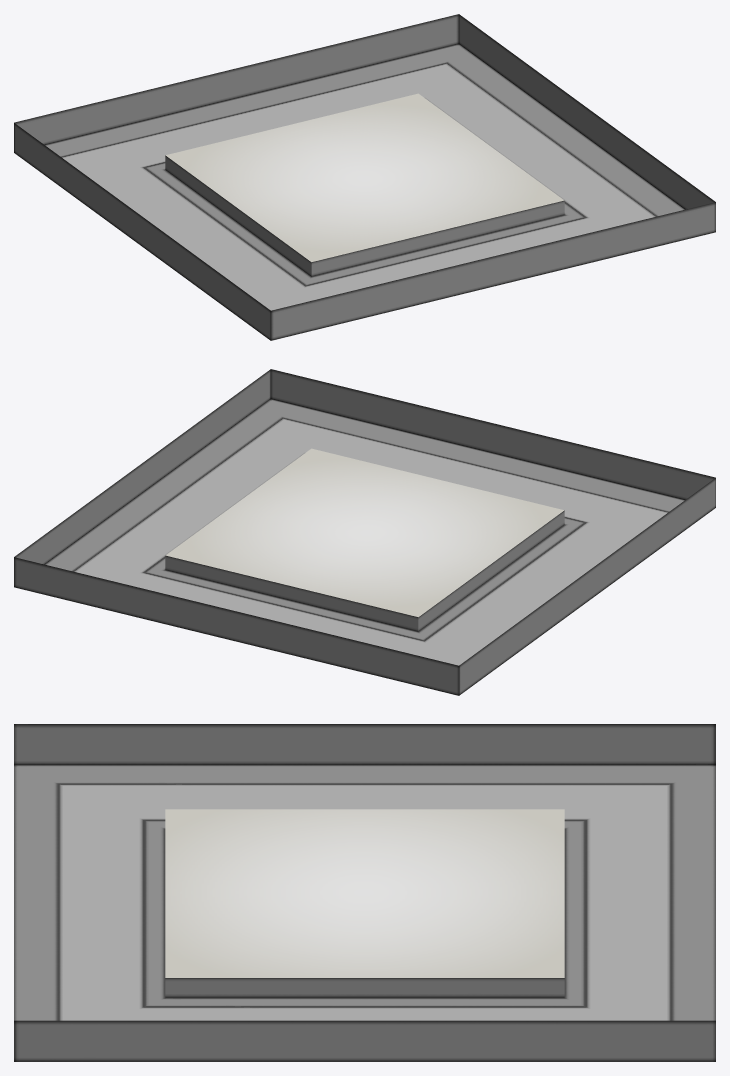
The model's file is light1_on.fbx.
3 renders of one model, top to bottom at view 1: azimuth 30°, elevation 25°; view 2: azimuth 150°, elevation 25°; view 3: azimuth 270°, elevation 25°, orthographic. The views are drawn at different scales.
Visible parts, largest first — view 1: polySurface1062; view 2: polySurface1062; view 3: polySurface1062.
Boxes of the visible parts, x1=… form: polySurface1062: x1=14, y1=14, x2=715, y2=340; polySurface1062: x1=14, y1=369, x2=715, y2=695; polySurface1062: x1=14, y1=724, x2=715, y2=1061.
Size of the model in its own units: 0.4895 by 0.0318 by 0.4895.
